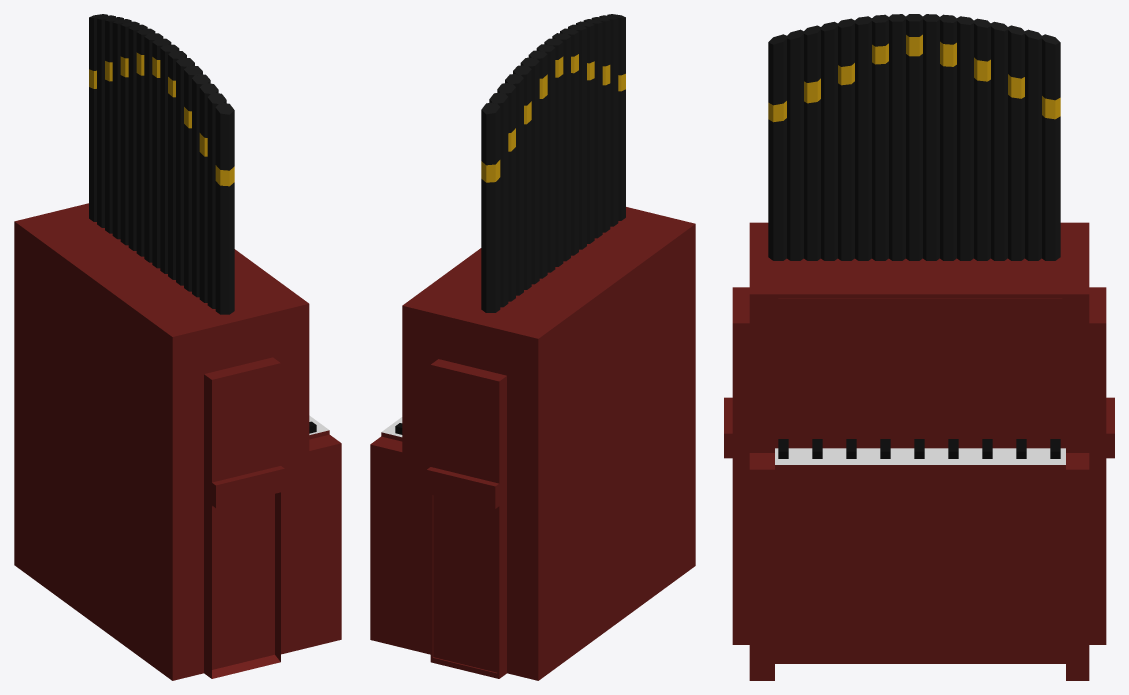
File: organ3.glb
The picture shows the model from 3 angles, left to right: view 1: azimuth 30°, elevation 25°; view 2: azimuth 150°, elevation 25°; view 3: azimuth 270°, elevation 25°; orthographic projection. The views are drawn at different scales.
Parts seen in each view (by area): view 1: Cube, Cylinder; view 2: Cube, Cylinder; view 3: Cube, Cylinder, blackkey.008.
Part boxes in pixels (bbox=[...]): Cube: bbox=[14, 203, 341, 680]; Cylinder: bbox=[89, 14, 234, 314]; Cube: bbox=[370, 207, 695, 680]; Cylinder: bbox=[481, 14, 625, 312]; Cube: bbox=[724, 222, 1114, 680]; Cylinder: bbox=[768, 14, 1060, 260]; blackkey.008: bbox=[778, 439, 1060, 458].
Size of the model in its own units: 0.6175 by 1.98 by 1.15.
